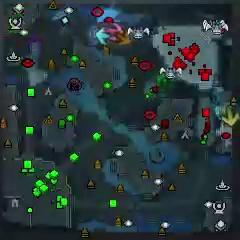x1: (106, 23, 123, 42)
x2: (221, 106, 239, 126)
x3: (95, 26, 111, 46)
x4: (155, 72, 170, 90)
x5: (116, 30, 131, 47)
